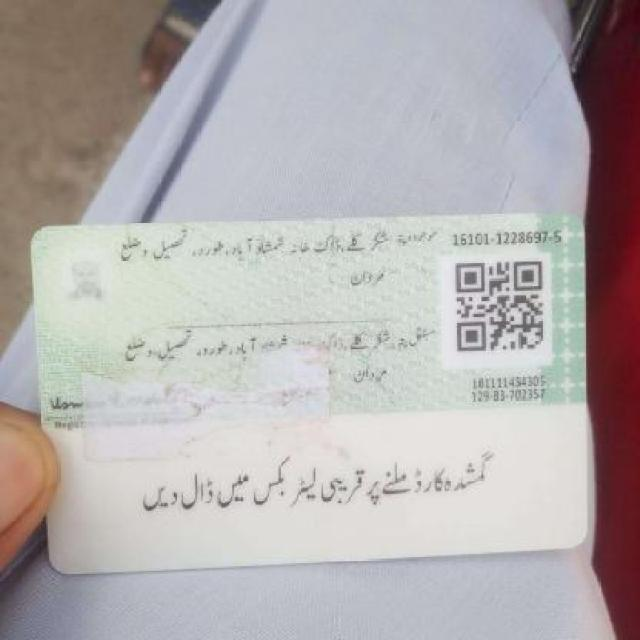Back: (32, 210, 592, 568)
